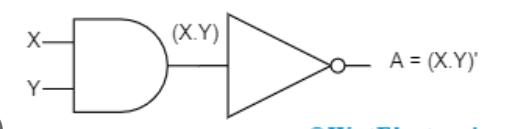and: (64, 12, 171, 122)
not: (222, 4, 346, 122)
